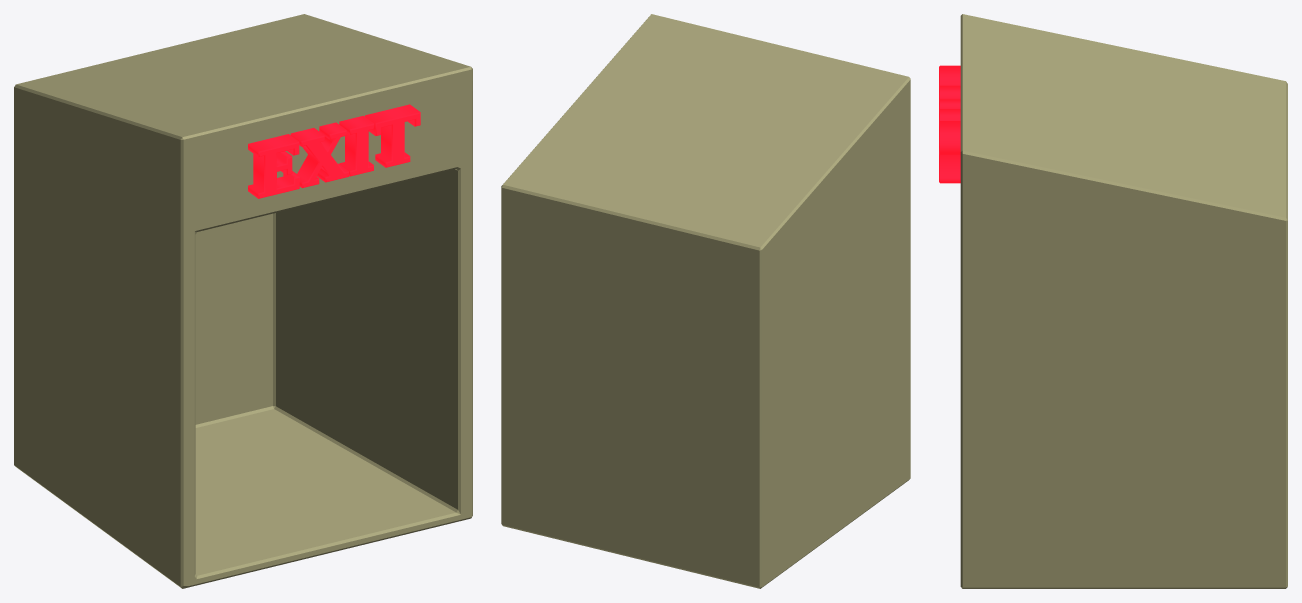
File: LevelExit.fbx
3 renders of one model, left to right at view 1: azimuth 30°, elevation 25°; view 2: azimuth 150°, elevation 25°; view 3: azimuth 270°, elevation 25°, orthographic. The views are drawn at different scales.
Parts seen in each view (by area): view 1: Exit; view 2: Exit; view 3: Exit.
Boxes of the visible parts, x1,y1,x2,y2 form: Exit: [14, 14, 472, 588]; Exit: [501, 14, 910, 588]; Exit: [939, 14, 1287, 588].
Size of the model in its own units: 320 by 473 by 341.
